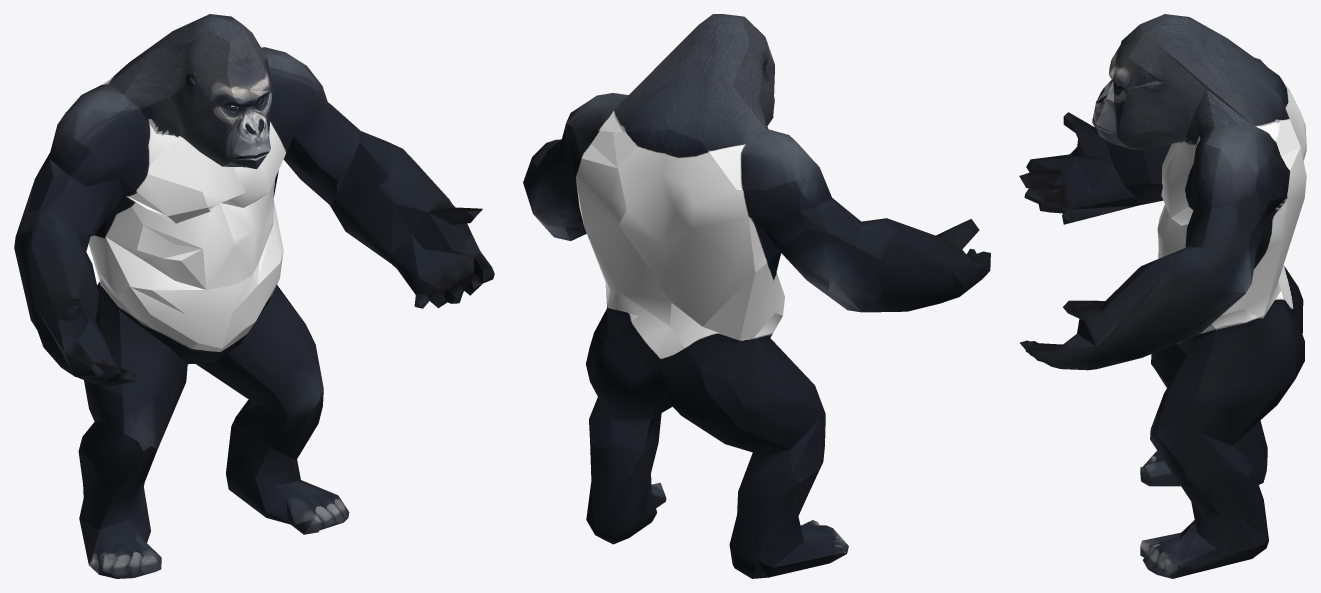
Rendered from kongrath_final.glb.
3 renders of one model, left to right at view 1: azimuth 30°, elevation 25°; view 2: azimuth 150°, elevation 25°; view 3: azimuth 270°, elevation 25°, orthographic. The views are drawn at different scales.
Size of the model in its own units: 1.6 by 1.9 by 0.9801.
Materials: 1 (1 with a texture image).
